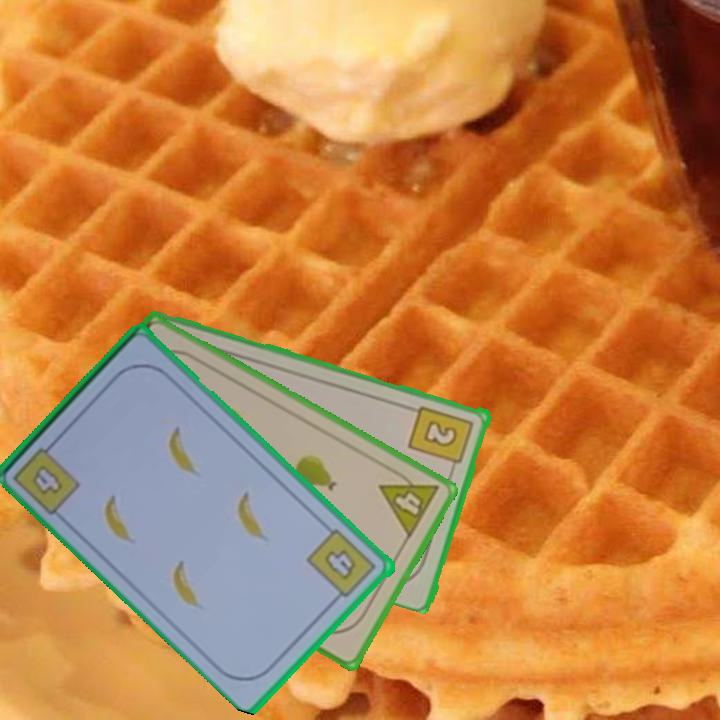2b: (406, 401, 477, 474)
4b: (304, 525, 381, 606), (29, 460, 66, 498)
4p: (375, 463, 442, 542)
